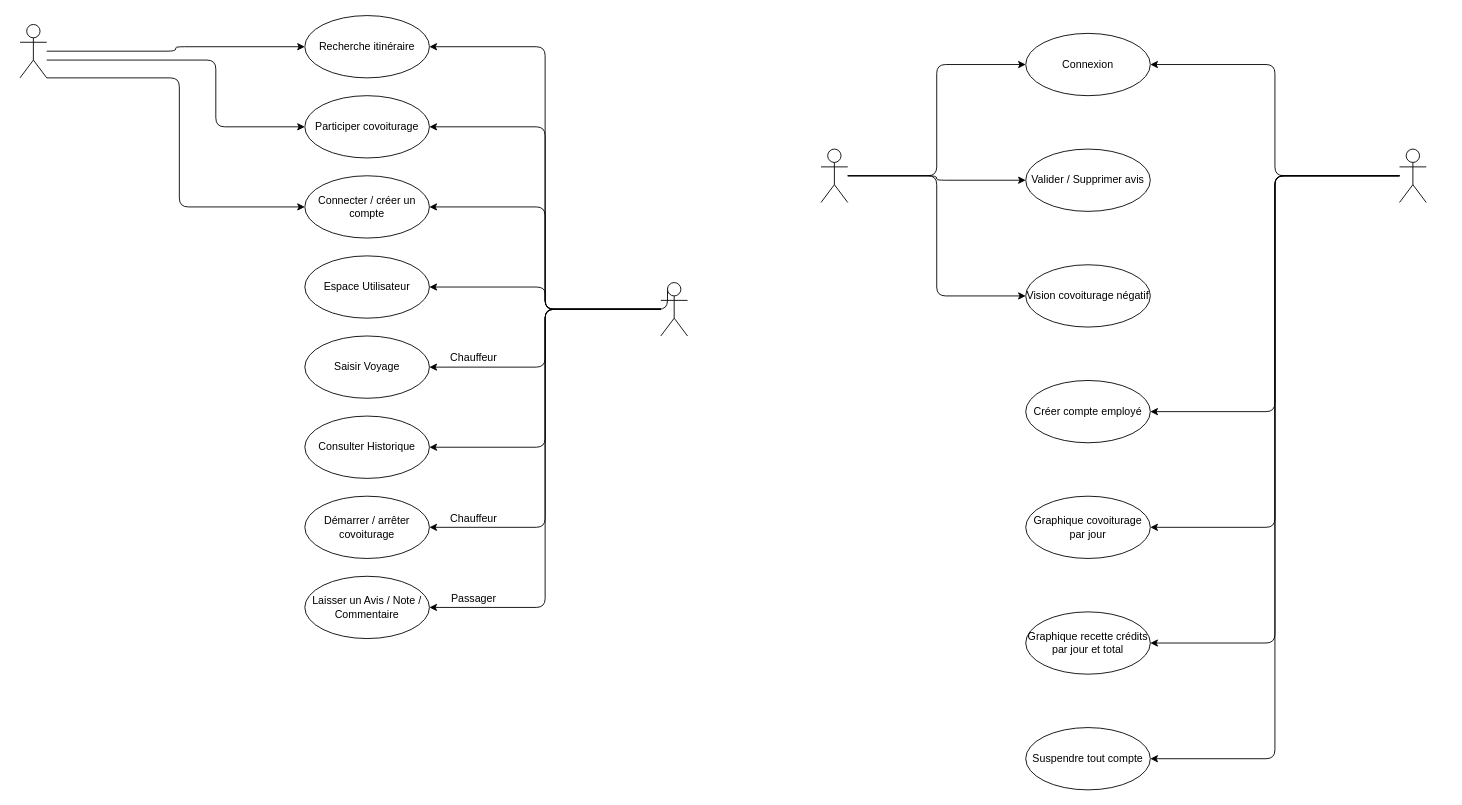
This 1462x805 diagram has some shape labels left out. The centre of each missing label's shape, as x and y in pixels:
"Administrateur" belongs at [1412,175].
"Employe" belongs at [834,175].
"Utilisateur" belongs at [674,309].
"Visiteur" belongs at [33,51].
